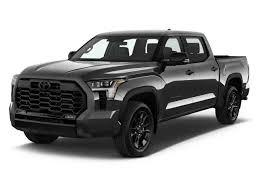toyota: (39, 76, 51, 94)
